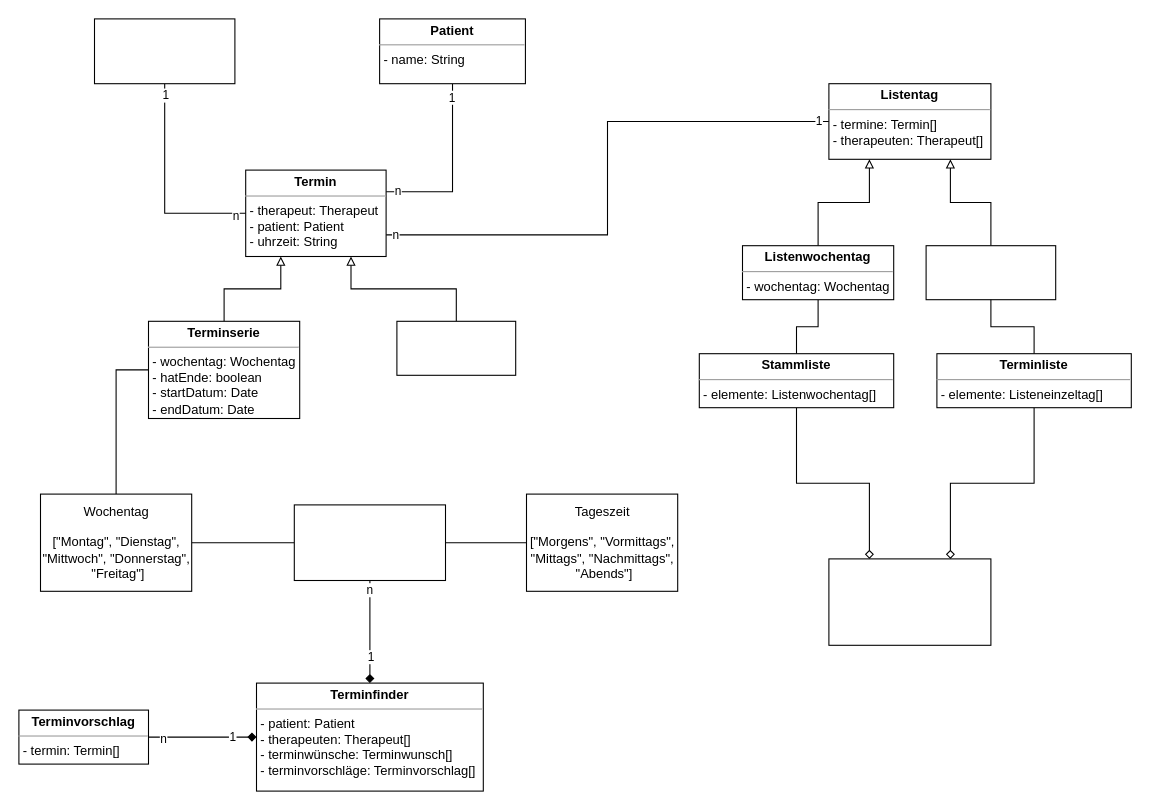
Image size: 1150x810. Some labels were removed from this diagram. Here are the shapes that lost their labels. From the top down, the centre of each, then its label:
pixel 164 51: Therapeut - name: String
pixel 990 272: Listeneinzeltag - datum: Date
pixel 456 347: Einzeltermin - datum: Date
pixel 369 542: Terminwunsch - wochentag: Wochentag - tageszeit: Tageszeit
pixel 909 601: Backup - erstellDatum: Date - stammliste: Stammliste - terminliste: Terminliste
